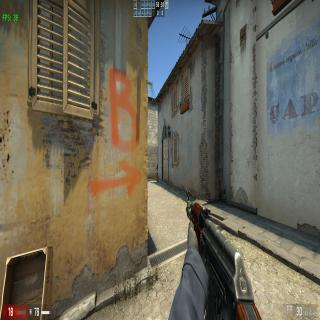CT-Body: (156, 166, 158, 177)
CT-Head: (157, 162, 158, 167)
